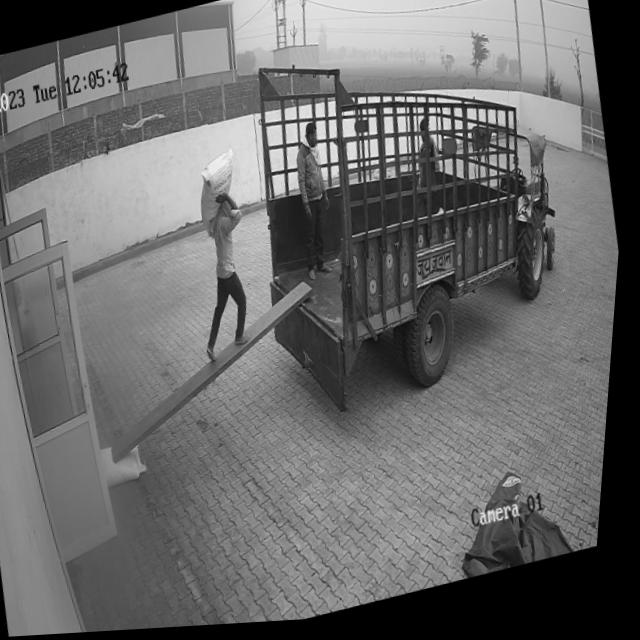sack: (192, 151, 251, 244), (105, 440, 155, 490)
